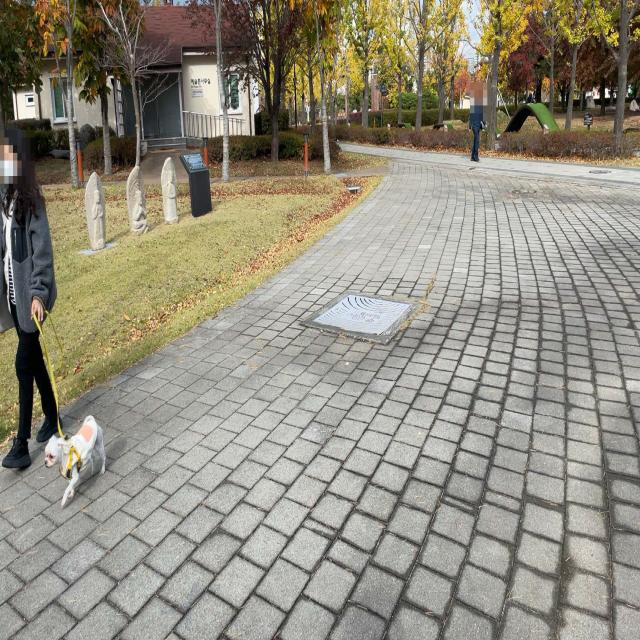Leashed_Dog: (0, 264, 106, 508)
